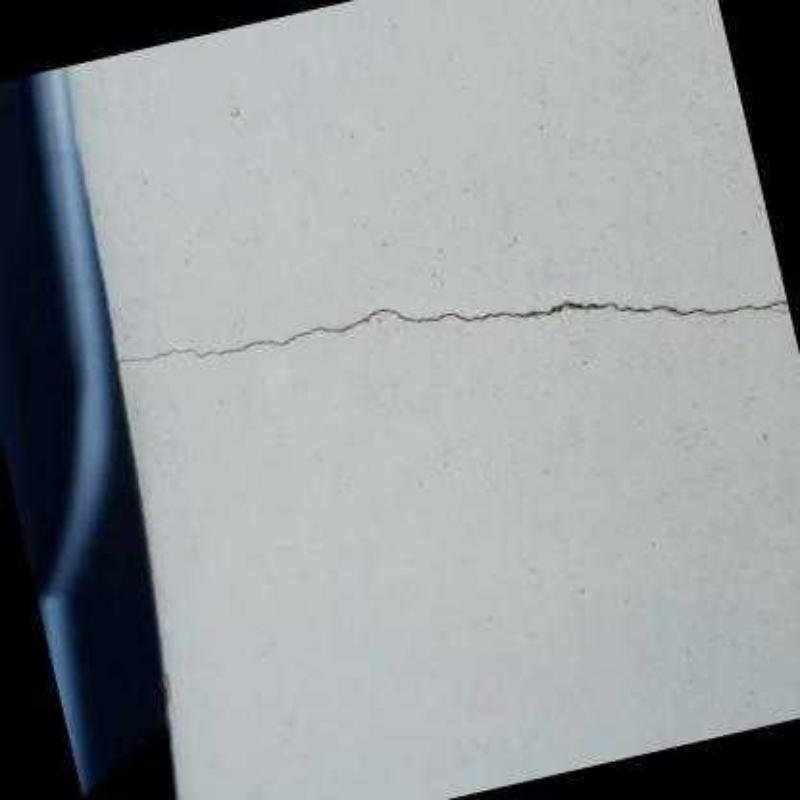crack: (119, 301, 789, 361)
